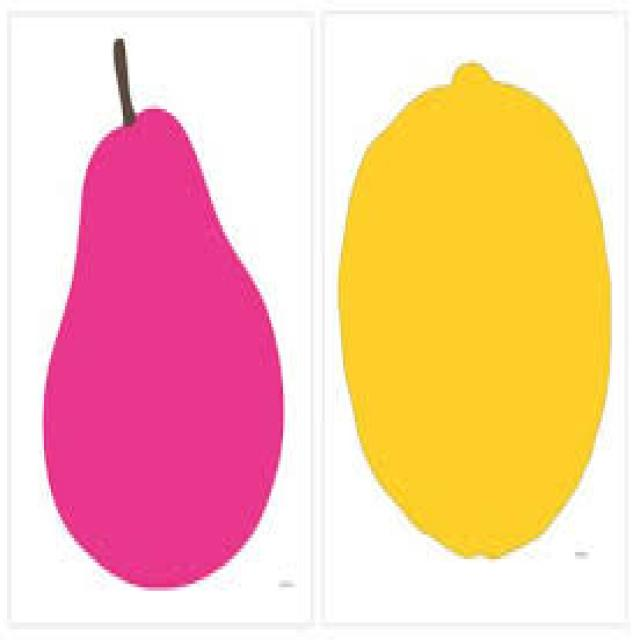Organik: (45, 29, 285, 584), (346, 68, 618, 550)
